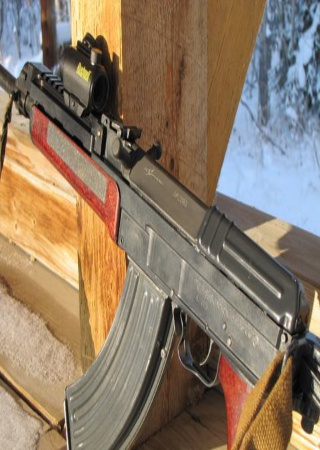rifle: (2, 35, 320, 449)
